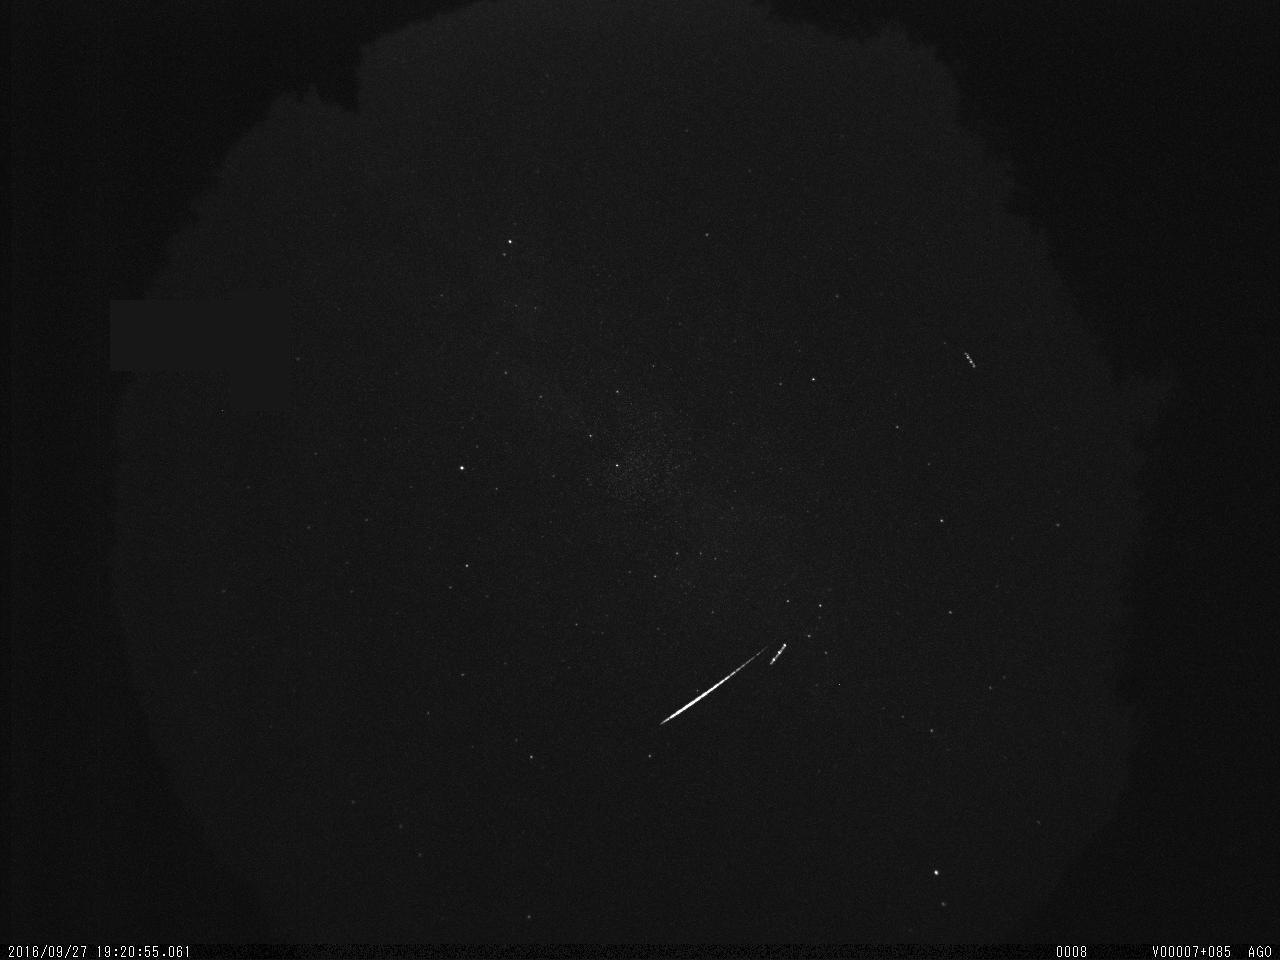Meteor: (654, 639, 770, 726)
